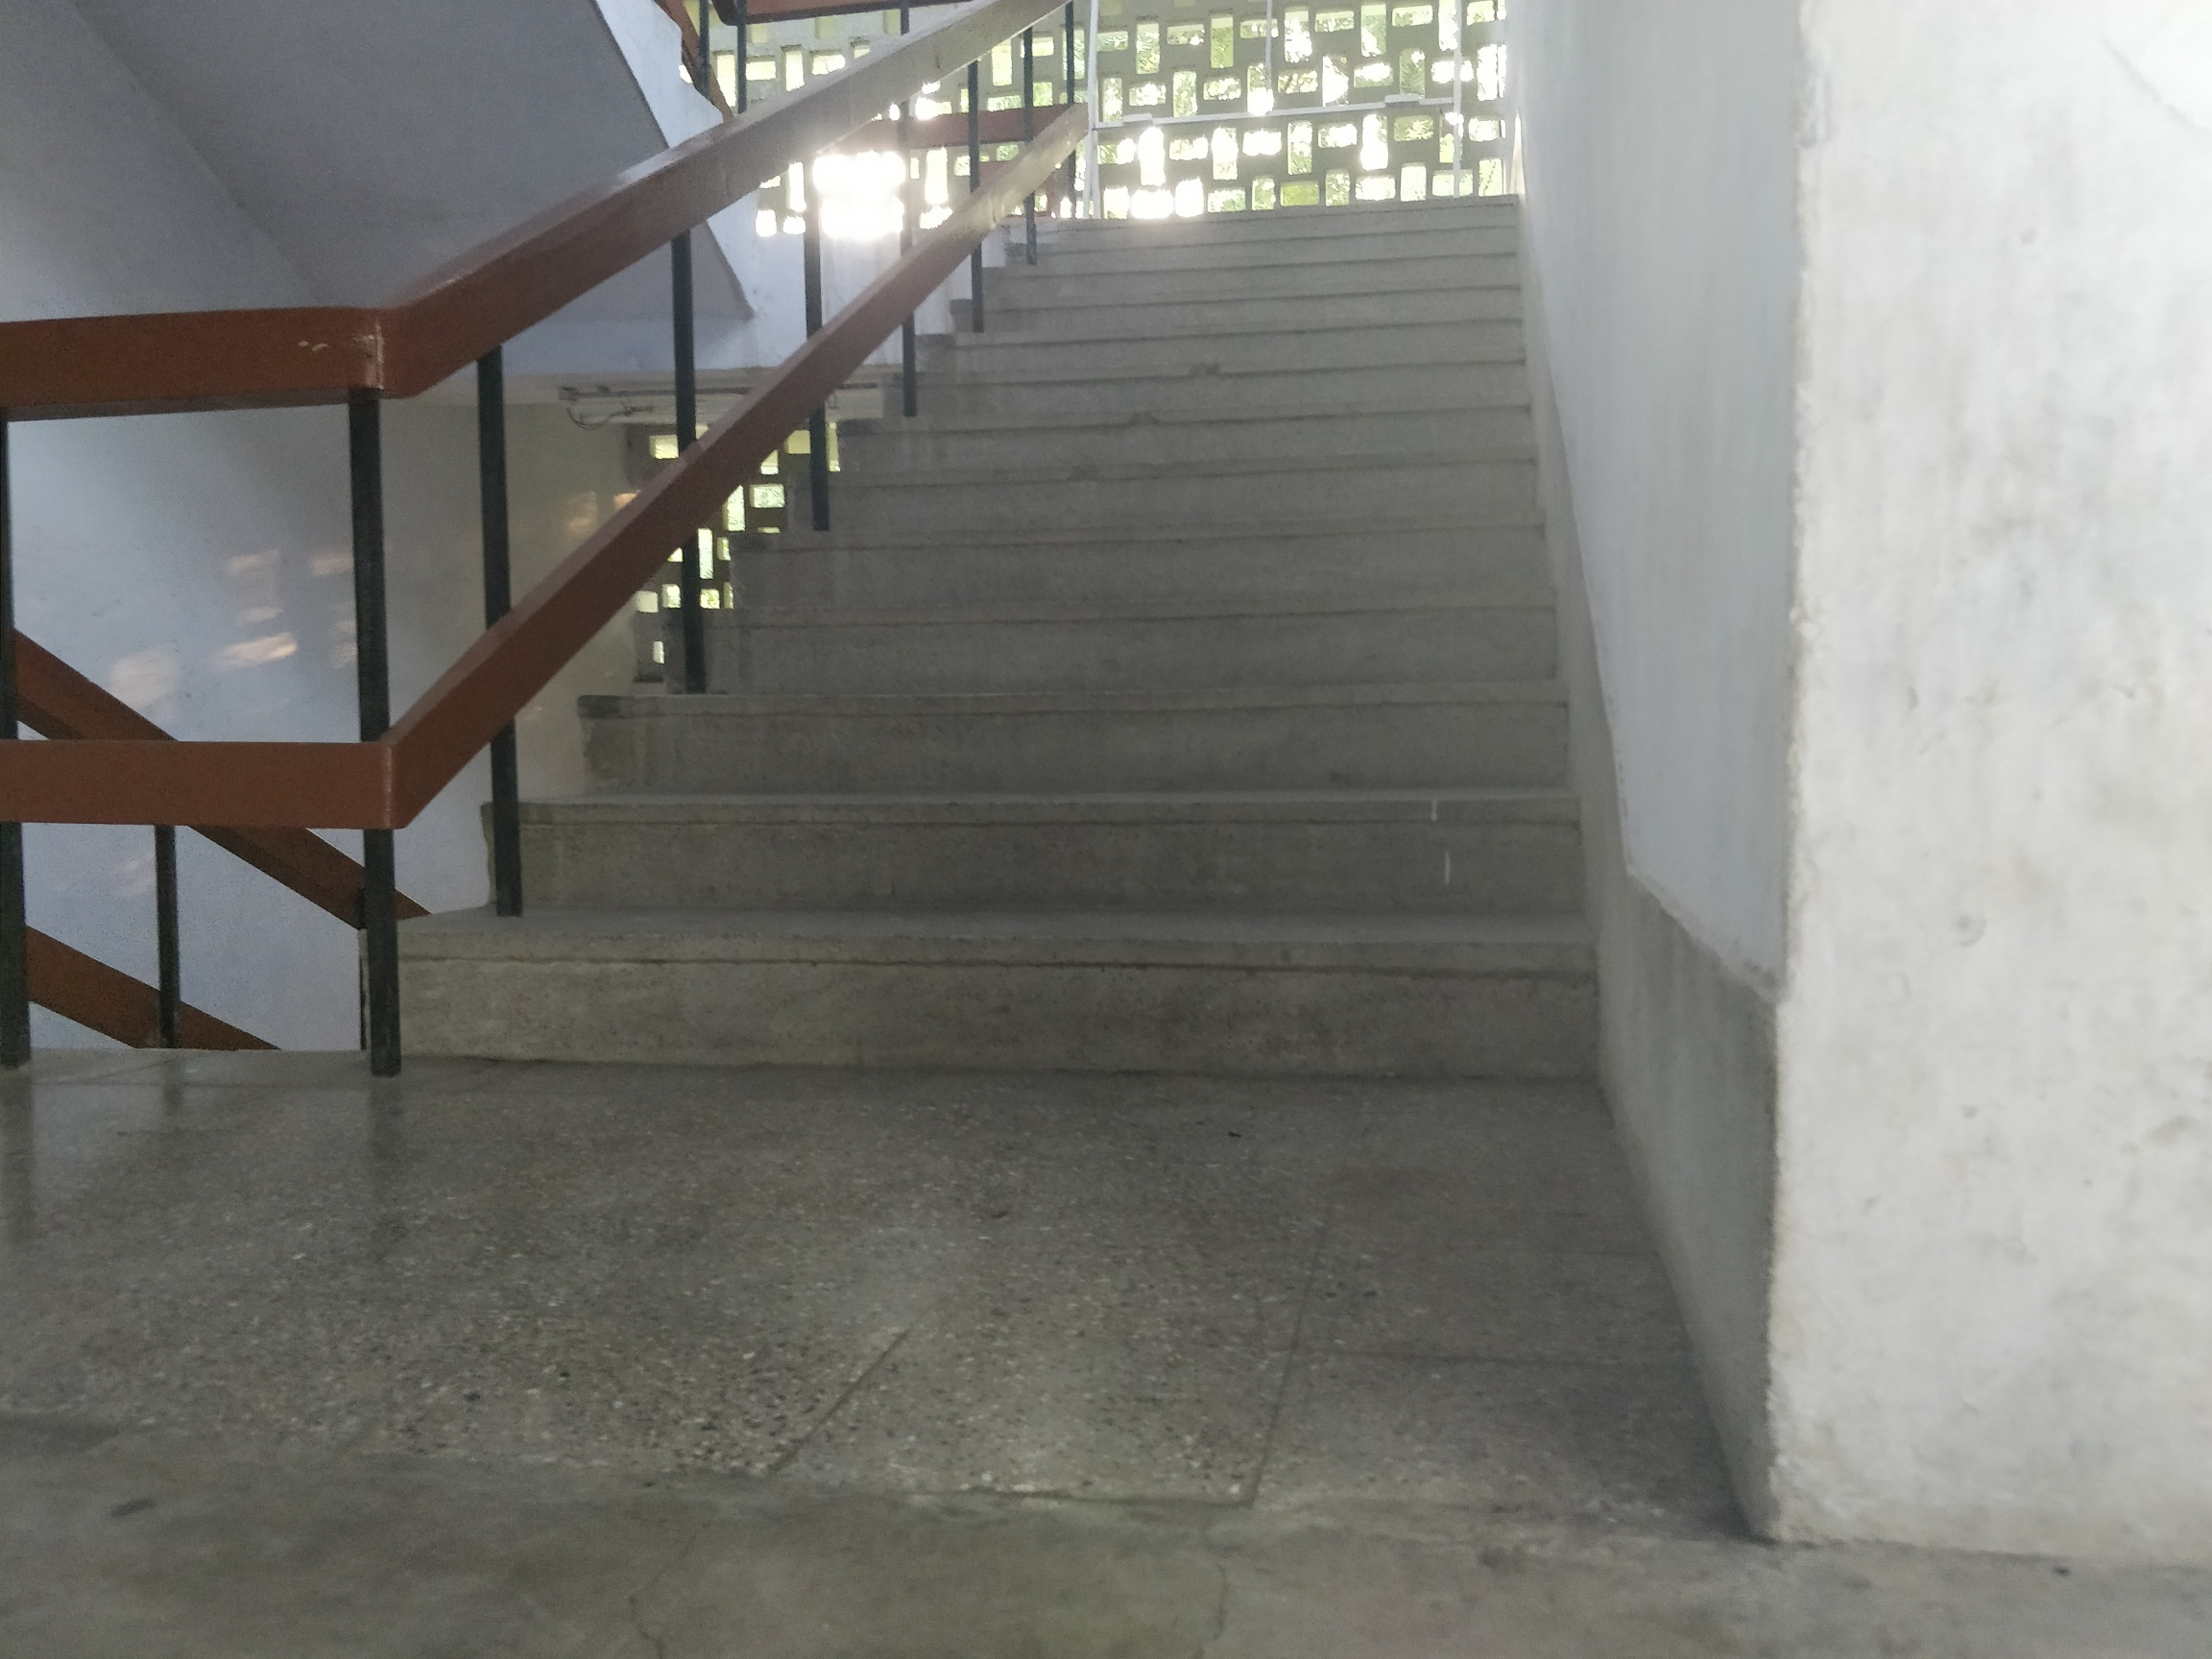stairs_up: (368, 176, 1622, 1093)
